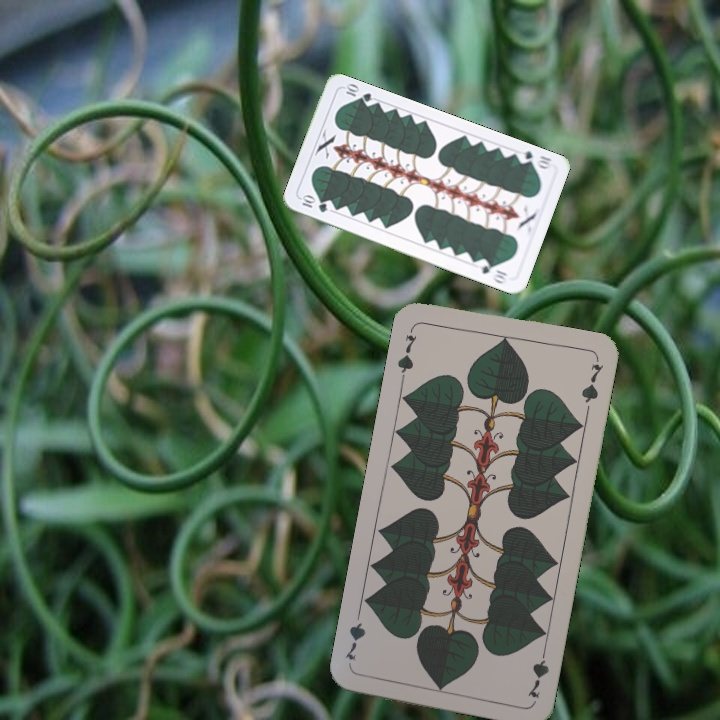G10: (513, 147, 555, 172), (296, 192, 330, 215)
G7: (523, 642, 552, 701), (393, 323, 420, 382)
